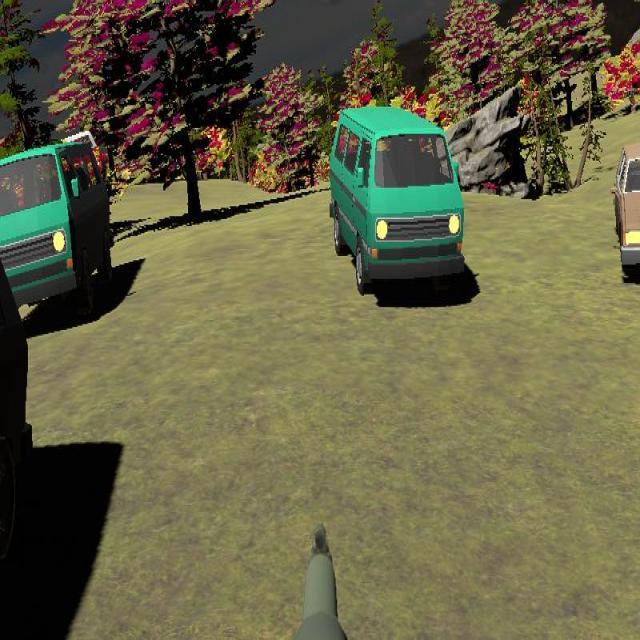car: (328, 105, 466, 299), (0, 140, 114, 331), (613, 141, 640, 284)
